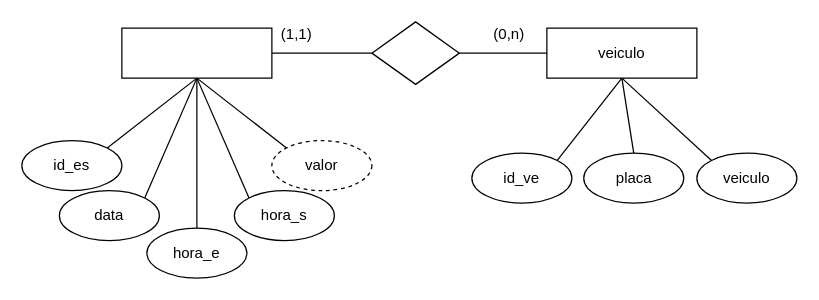
Image size: 819x300. Some labels were removed from this diagram. The box of each missing label's shape, as (x1, y1, x2, y2) in pixels:
gerenciar: (371, 21, 459, 84)
vaga_estaci: (121, 27, 272, 78)
